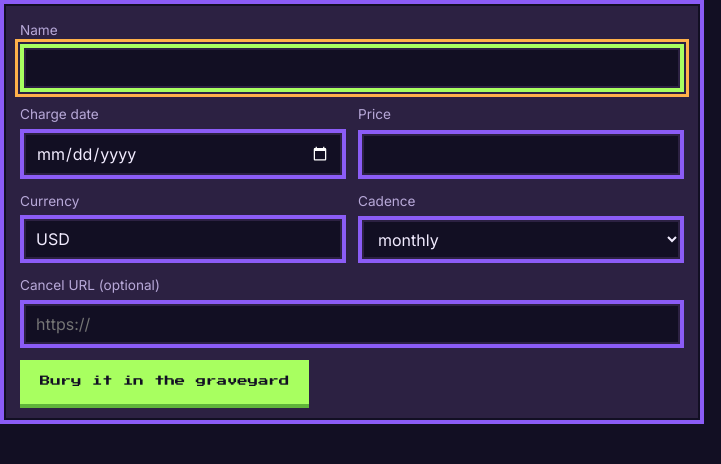
Test case: GraveForm › shows an inline error and does not save: negative price
In the field labelled "Name": (352, 68) [20,44,684,92], type "A"
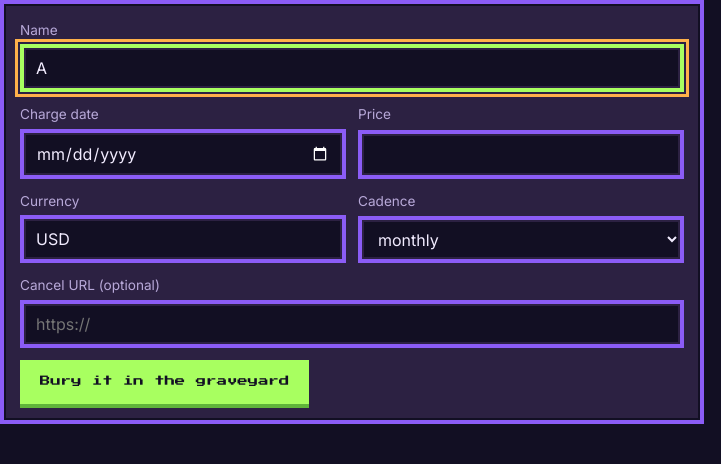
In the date field labelled "Charge date": (183, 154) [20,129,346,179], type "2026-10-31"
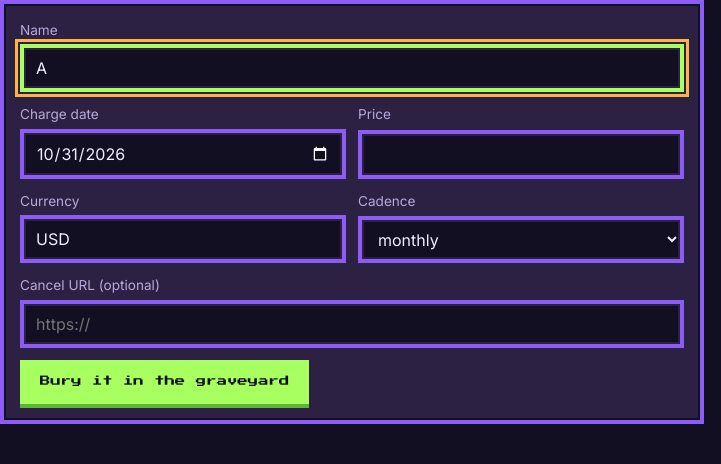
In the field labelled "Price": (521, 154) [358,130,684,179], type "-1"
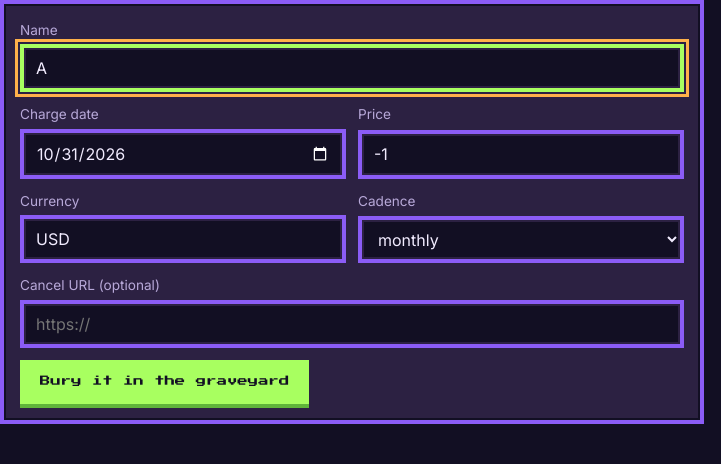
Submit the form named "Grave details"
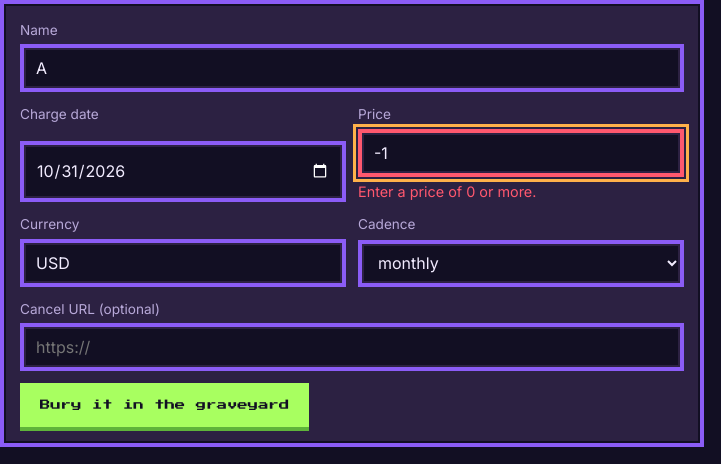
Expected: the message reads "Enter a price of 0 or more.", [358,183,536,200]
